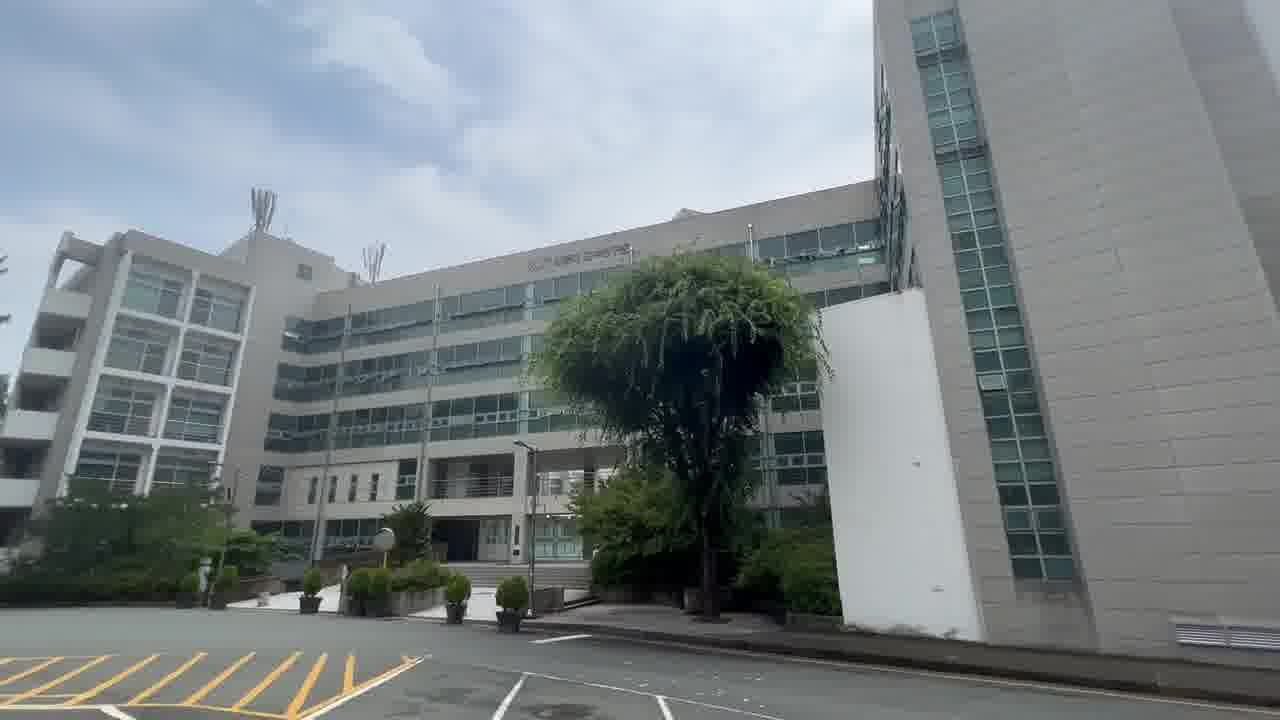low: (19, 191, 548, 498)
